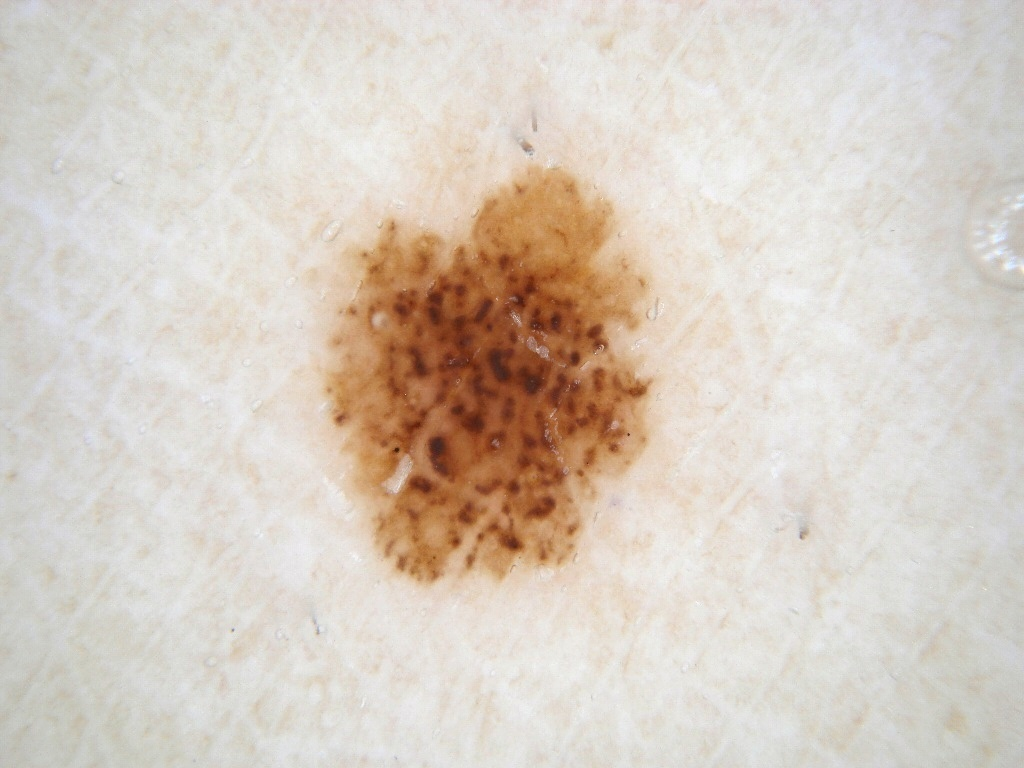Detected Lesion: (312, 159, 664, 598)
